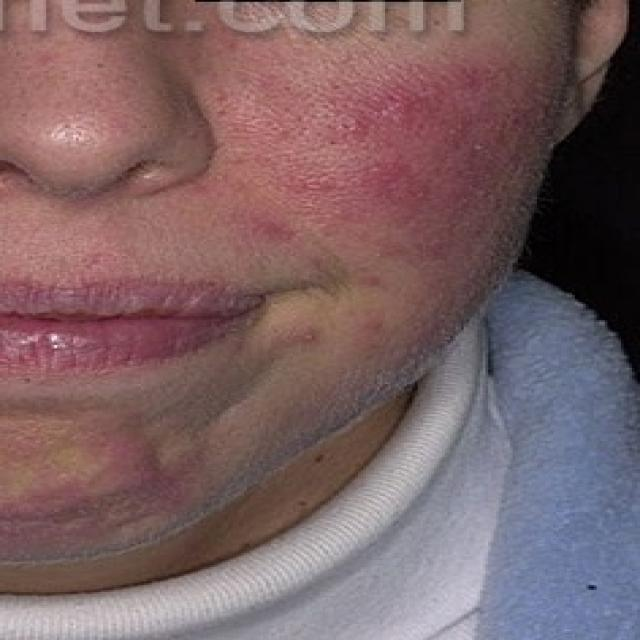Rosacea: (325, 80, 515, 266)
